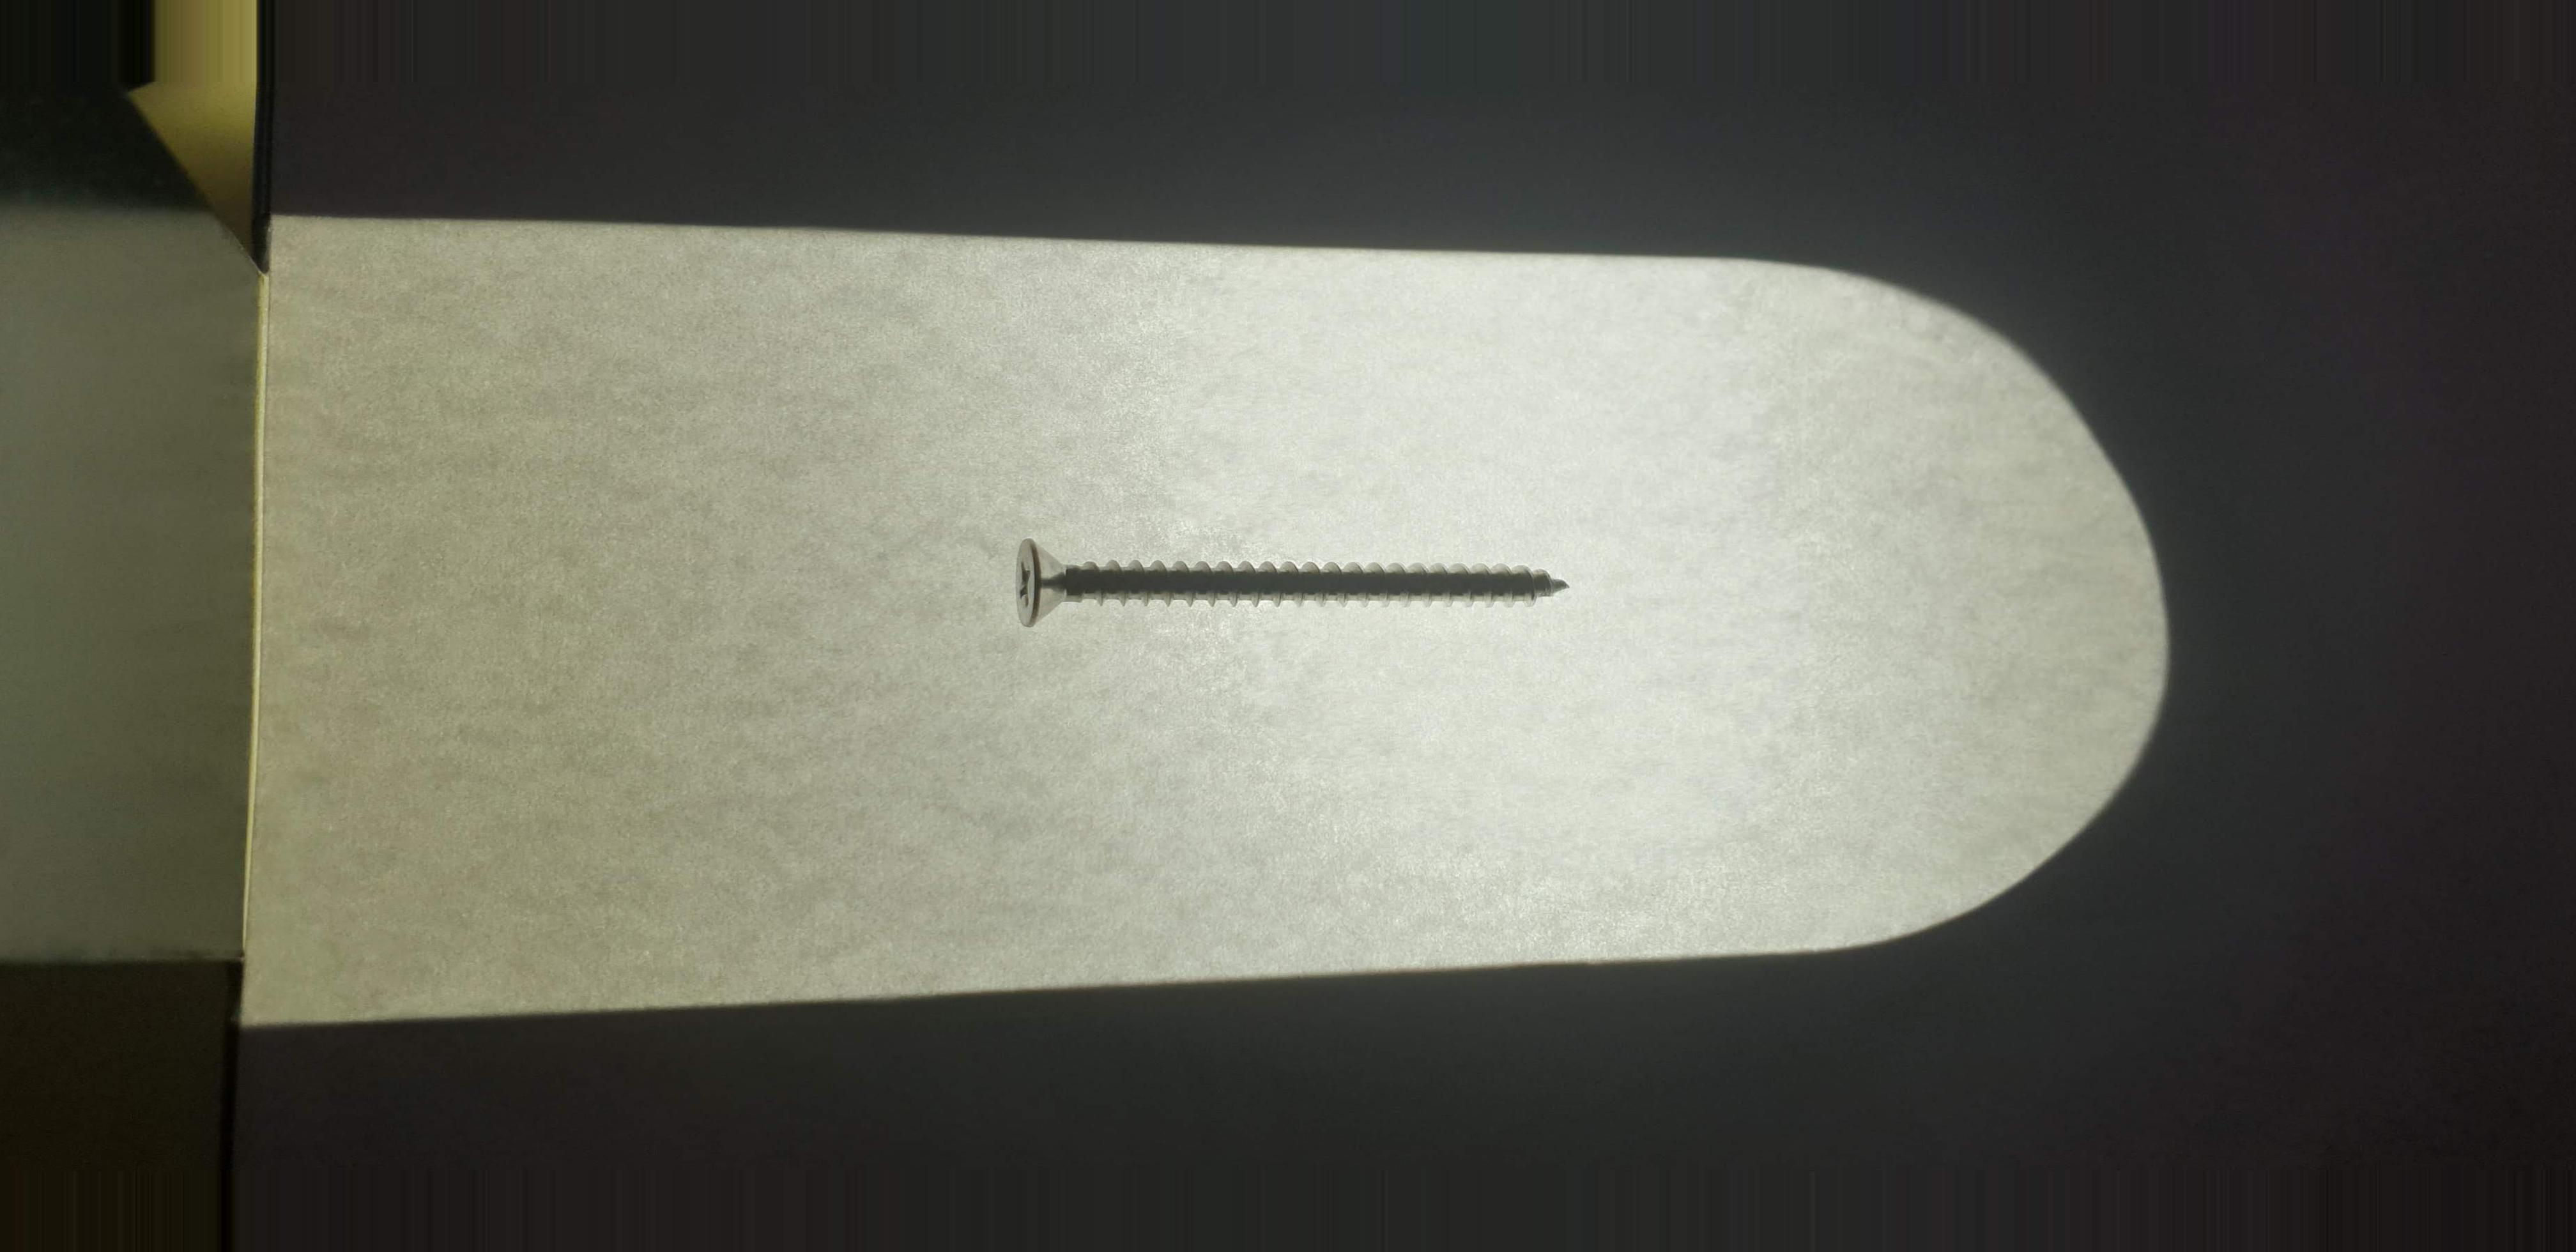S001: (992, 514, 1598, 647)
